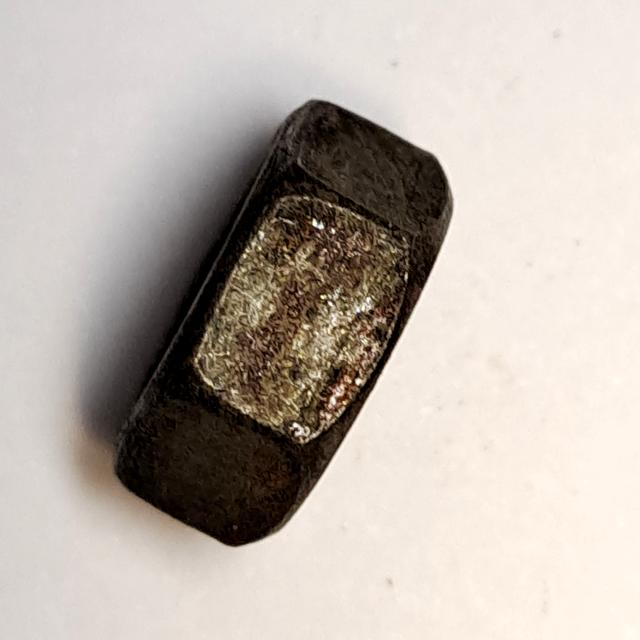Side_Rust: (100, 85, 463, 556)
